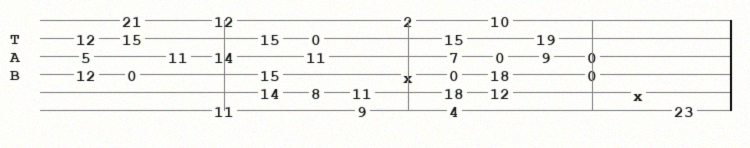0: (127, 67, 141, 81), (311, 31, 325, 45), (449, 67, 463, 81), (495, 49, 509, 63), (587, 49, 601, 63), (587, 67, 601, 81)
10: (490, 13, 514, 27)
11: (168, 49, 192, 63), (214, 103, 238, 117), (306, 49, 330, 63), (352, 85, 376, 99)
12: (76, 31, 100, 45), (76, 67, 100, 81), (214, 13, 238, 27), (490, 85, 514, 99)
14: (214, 49, 238, 63), (260, 85, 284, 99)
15: (122, 31, 146, 45), (260, 31, 284, 45), (260, 67, 284, 81), (444, 31, 468, 45)
18: (444, 85, 468, 99), (490, 67, 514, 81)
19: (536, 31, 560, 45)
2: (403, 13, 417, 27)
21: (122, 13, 146, 27)
23: (674, 103, 698, 117)
4: (449, 103, 463, 117)
5: (81, 49, 95, 63)
7: (449, 49, 463, 63)
8: (311, 85, 325, 99)
9: (357, 103, 371, 117), (541, 49, 555, 63)
x: (403, 69, 417, 80), (633, 87, 647, 98)
